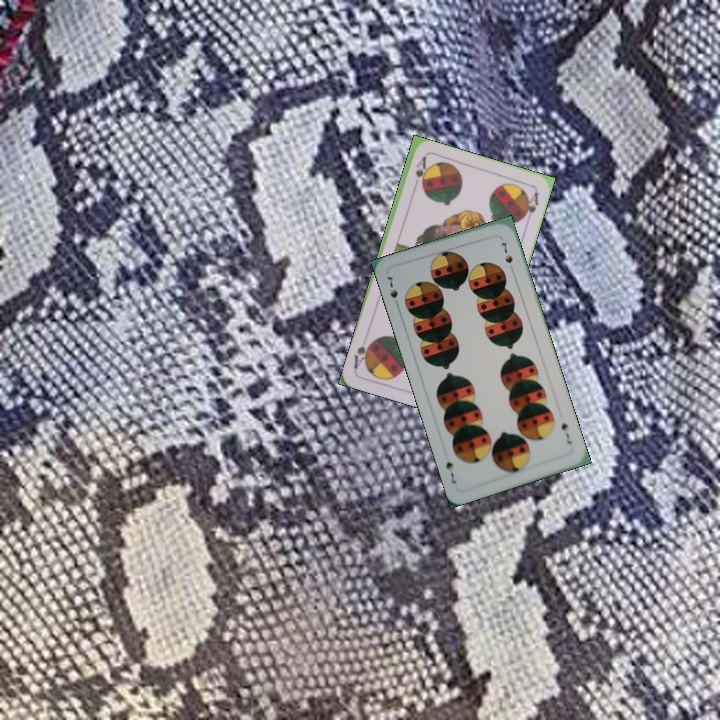S7: (382, 271, 401, 310), (557, 418, 575, 447)
SA: (409, 153, 429, 193)
